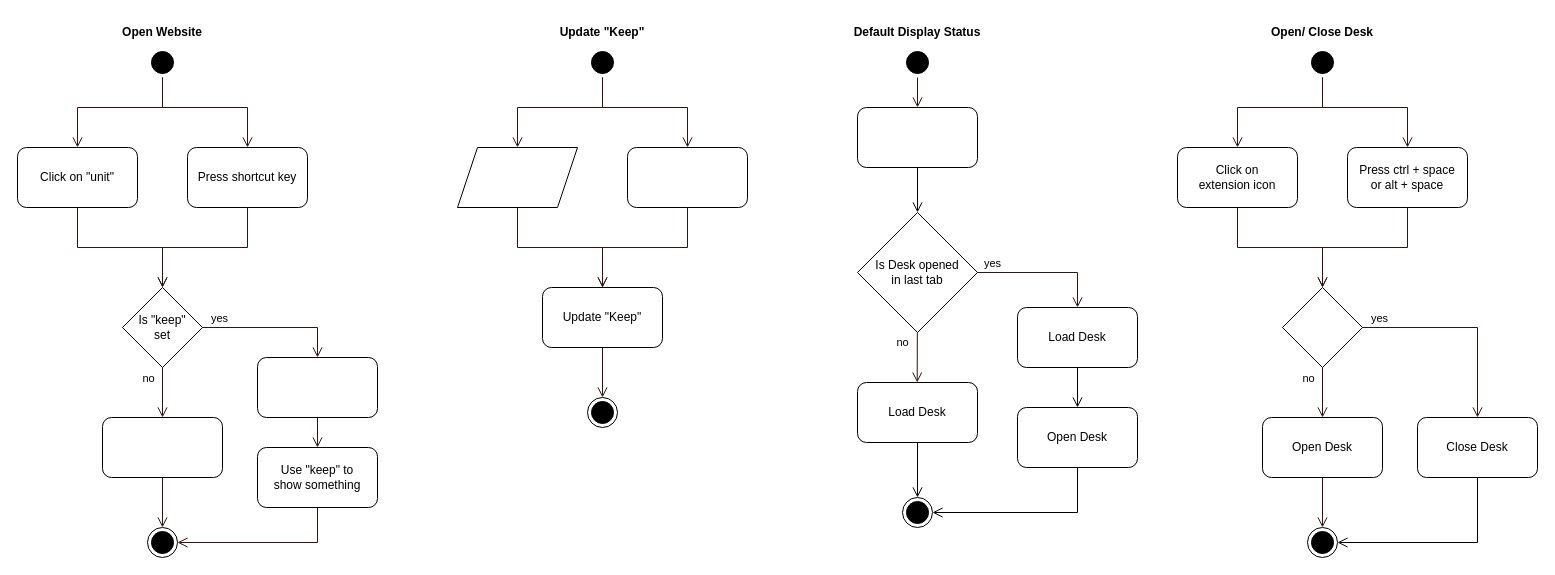
Some shapes in this 1555 by 575 pixel diagram are drawn without their labels. Each missing label, with the box of its shape:
Input value: (456, 146, 578, 208)
Is Desk opened: (1282, 286, 1362, 368)
Open new tab: (856, 106, 978, 168)
Open target website: (102, 416, 222, 478)
Paste value by shortcut key: (626, 146, 748, 208)
Use "keep" to open target website: (256, 356, 378, 418)
